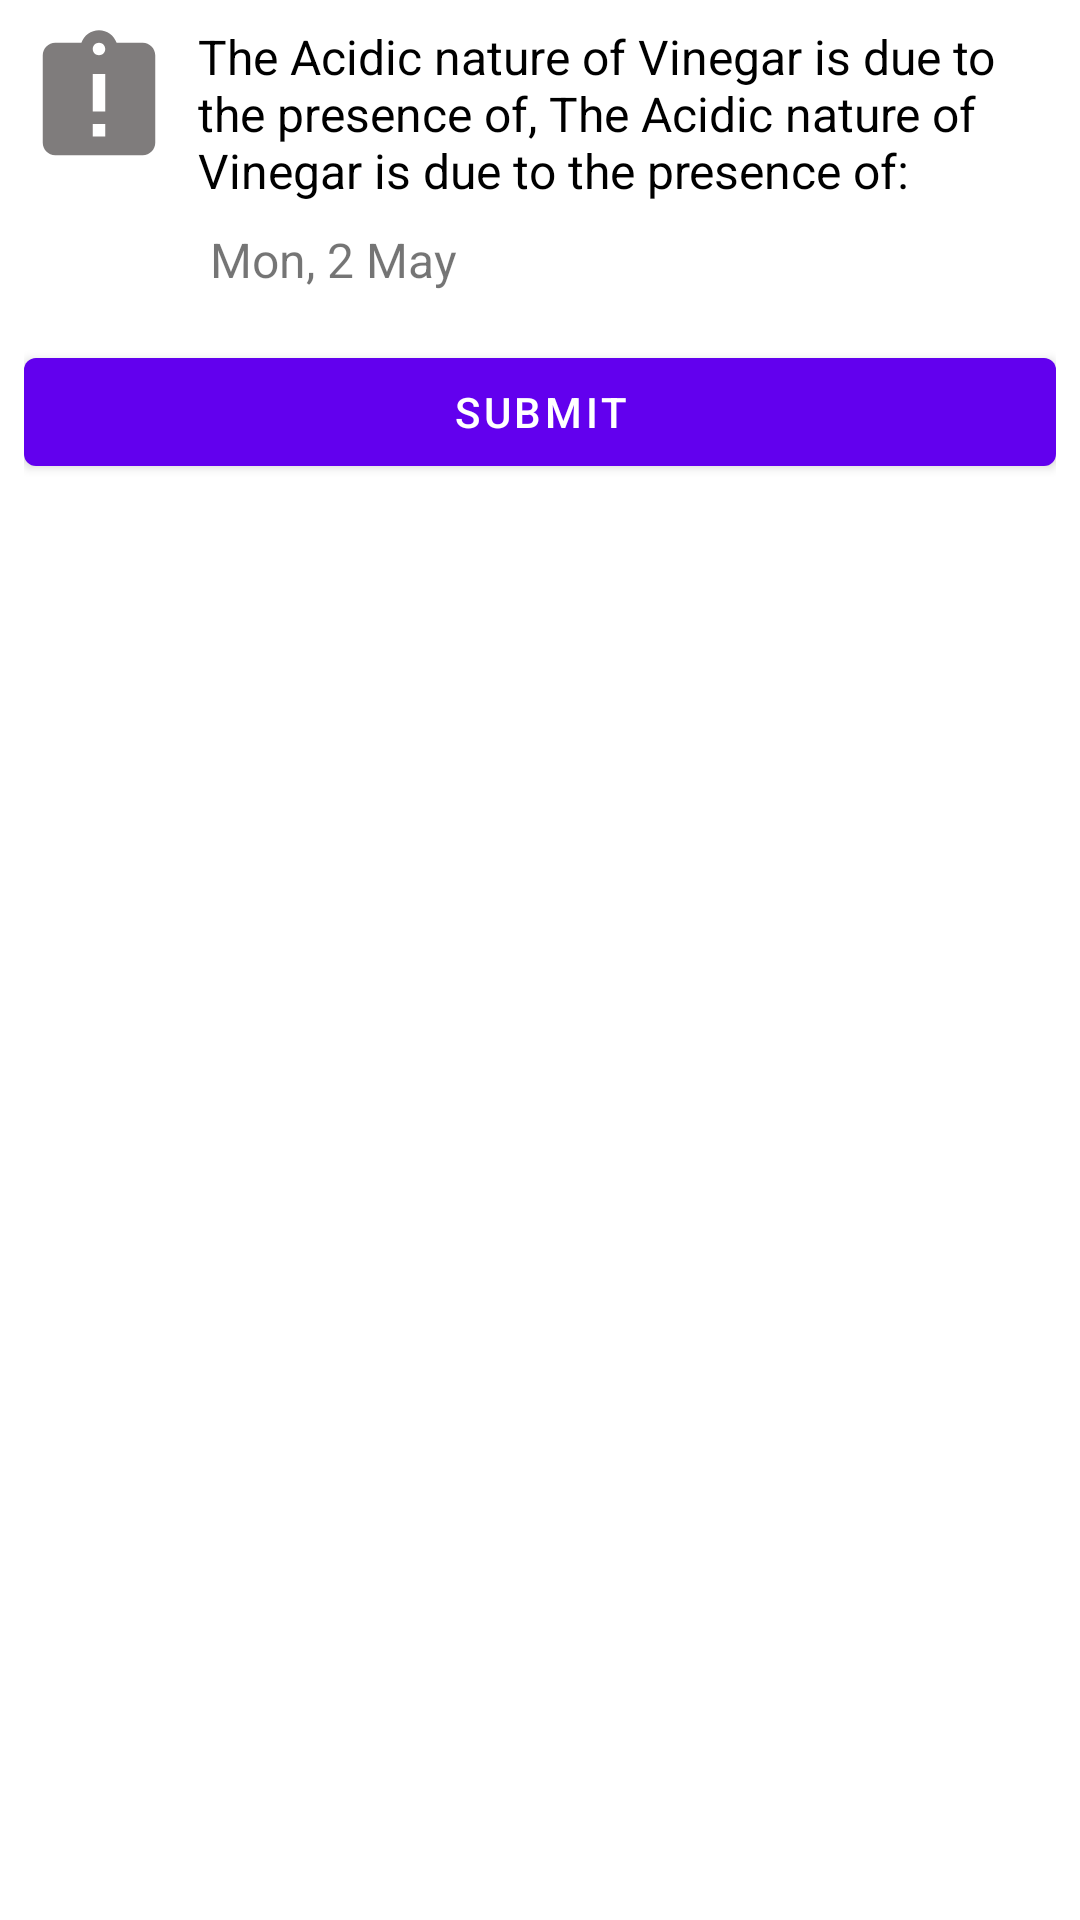

Where to tap for icons on this 1080 x 1920 app screen, as point (x, y):
assignment late: point (99, 93)
